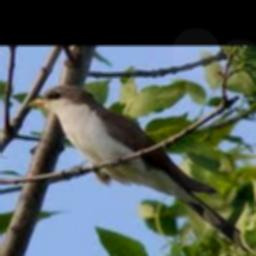Cuckoo: (26, 85, 256, 253)
